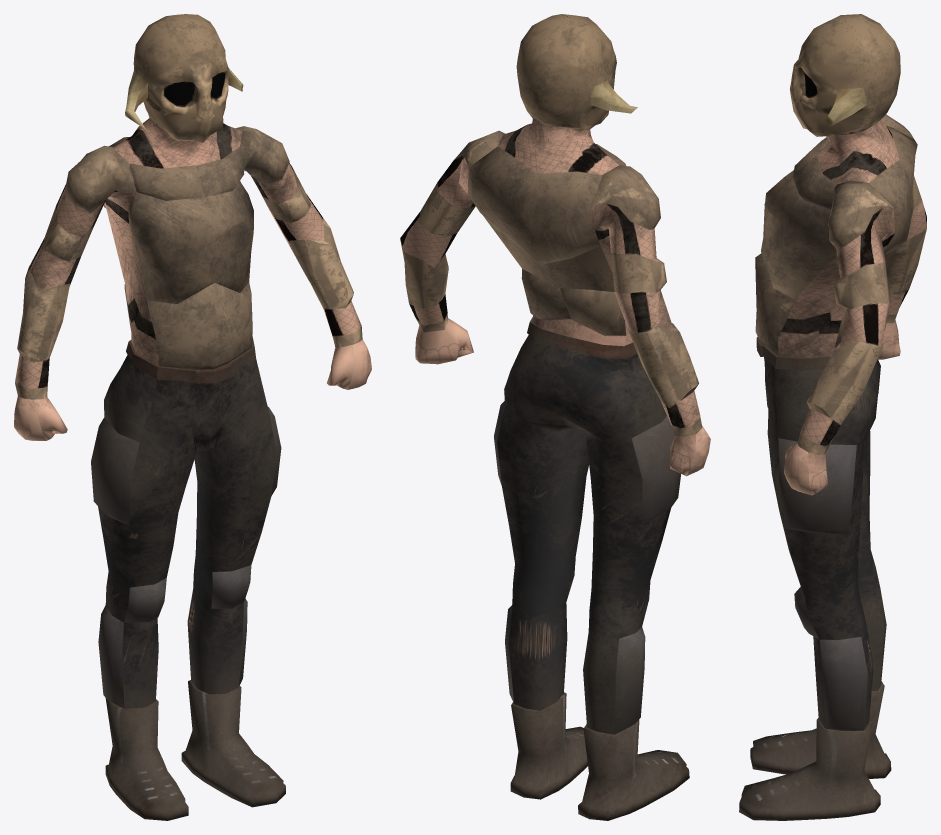
File: Anim_ataque_d1_npc1.0011.obj
3 views of the same model, side by side, from view 1: azimuth 30°, elevation 25°; view 2: azimuth 150°, elevation 25°; view 3: azimuth 270°, elevation 25° (orthographic). The views are drawn at different scales.
Parts seen in each view (by area): view 1: NPC2; view 2: NPC2; view 3: NPC2.
Part boxes in pixels (x1,y1,x2,y2): NPC2: (14, 14, 371, 820); NPC2: (400, 14, 710, 820); NPC2: (739, 14, 926, 820).
Bounding box in the file's own units: 4.22 × 9.63 × 2.12.
